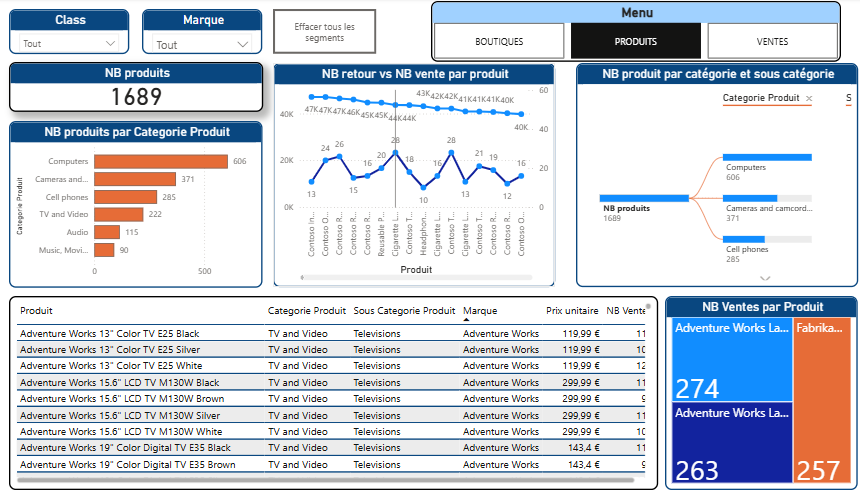

This screenshot's page, from the dashboard's own definition file:
{"tool":"powerbi","page":{"name":"PRODUITS","canvas":[1280,720],"ordinal":1},"visuals":[{"type":"slicer","title":"Class","fields":{"Values":["Produits.Class"]},"box":[21.8,16.8,176.4,65.5],"z":0},{"type":"slicer","title":"Marque","fields":{"Values":["Produits.Marque"]},"box":[216.7,16.8,176.4,65.5],"z":1000},{"type":"card","title":"NB produits","fields":{"Values":["Produits.NB produits"]},"box":[22,93.7,371.7,73.2],"z":2000},{"type":"barChart","fields":{"Category":["Categorie Produits.Categorie Produit"],"Y":["Produits.NB produits"]},"box":[21.8,179.7,371.2,243.6],"z":3000},{"type":"tableEx","fields":{"Values":["Produits.Produit","Categorie Produits.Categorie Produit","Sous Categories Produits.Sous Categorie Produit","Produits.Marque","Produits.Prix unitaire","Sales.NB Ventes"]},"box":[22,436.1,949.8,283.9],"z":4000},{"type":"lineChart","title":"NB retour vs NB vente par produit","fields":{"Category":["Produits.Produit"],"Y":["Sum(Sales.Quantité de vente)"],"Y2":["Sum(Sales.Quantité de retour)"]},"box":[408.3,95.1,412.7,327.8],"z":5000},{"type":"decompositionTreeVisual","title":"NB produit par catégorie et sous catégorie","fields":{"Analyze":["Produits.NB produits"],"ExplainBy":["Categorie Produits.Categorie Produit","Sous Categories Produits.Sous Categorie Produit"]},"box":[851.7,95.1,412.7,327.8],"z":6000},{"type":"treemap","fields":{"Group":["Produits.Produit"],"Values":["Sales.NB Ventes"]},"box":[982,436.1,282.4,283.9],"z":7000},{"type":"actionButton","box":[408.2,16.8,151.2,65.5],"z":8000},{"type":"pageNavigator","title":"Menu","box":[639.5,4.4,600,89.3],"z":9000}]}

Visuals, with their boxes in screenshot pixels (x1, y1, x2, y2), scaled from the page's 1280x720 canvas onto the 860x490 screenshot:
"Class" slicer: {"left": 15, "top": 11, "right": 133, "bottom": 56}
"Marque" slicer: {"left": 146, "top": 11, "right": 264, "bottom": 56}
"NB produits" card: {"left": 15, "top": 64, "right": 265, "bottom": 114}
barChart - Categorie Produits.Categorie Produit x Produits.NB produits: {"left": 15, "top": 122, "right": 264, "bottom": 288}
tableEx - Produits.Produit x Categorie Produits.Categorie Produit: {"left": 15, "top": 297, "right": 653, "bottom": 489}
"NB retour vs NB vente par produit" lineChart: {"left": 274, "top": 65, "right": 552, "bottom": 288}
"NB produit par catégorie et sous catégorie" decompositionTreeVisual: {"left": 572, "top": 65, "right": 850, "bottom": 288}
treemap - Produits.Produit x Sales.NB Ventes: {"left": 660, "top": 297, "right": 850, "bottom": 489}
actionButton: {"left": 274, "top": 11, "right": 376, "bottom": 56}
"Menu" pageNavigator: {"left": 430, "top": 3, "right": 833, "bottom": 64}
